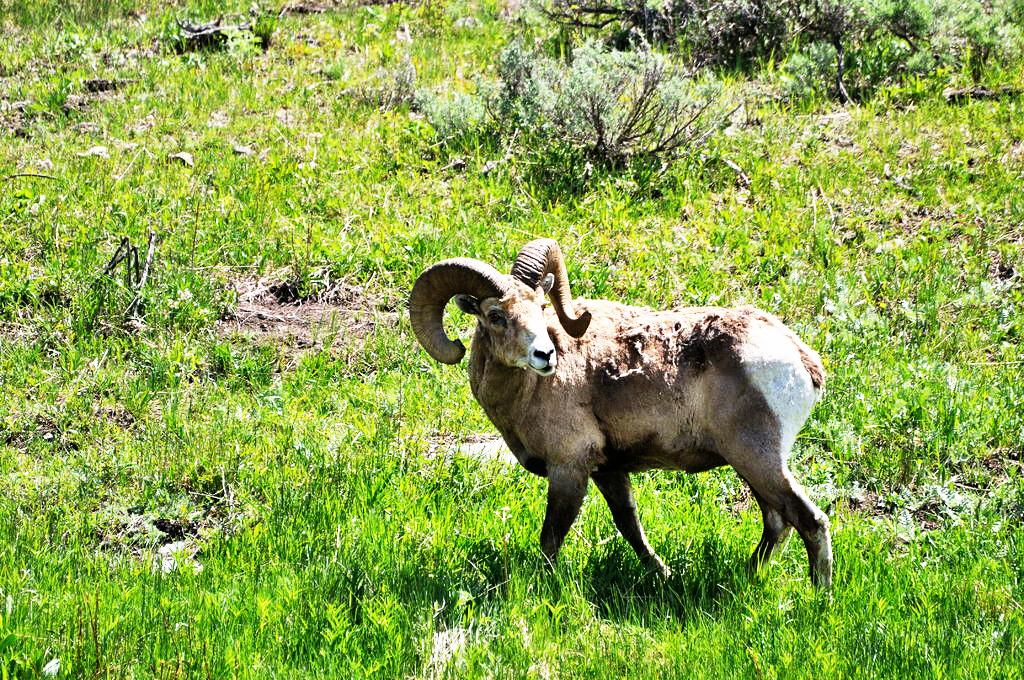Sheep: (422, 237, 840, 602)
